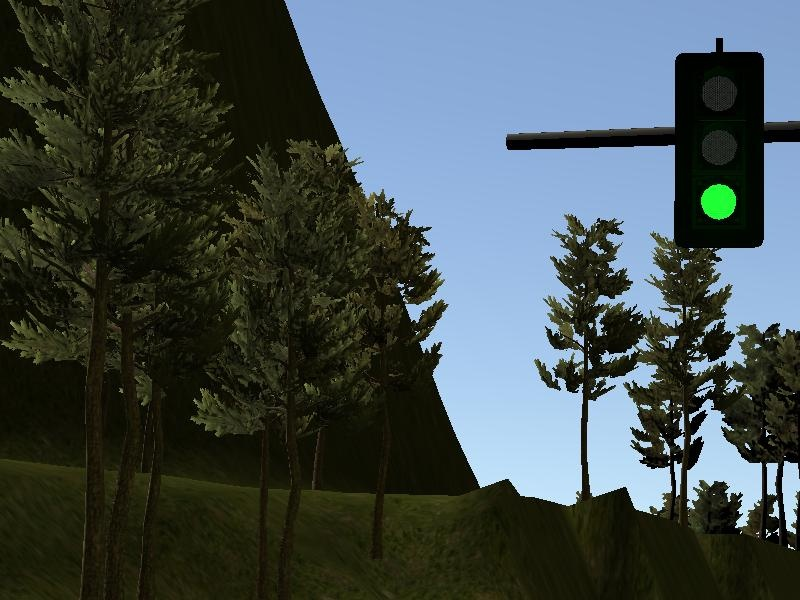GREEN: (675, 54, 764, 249)
